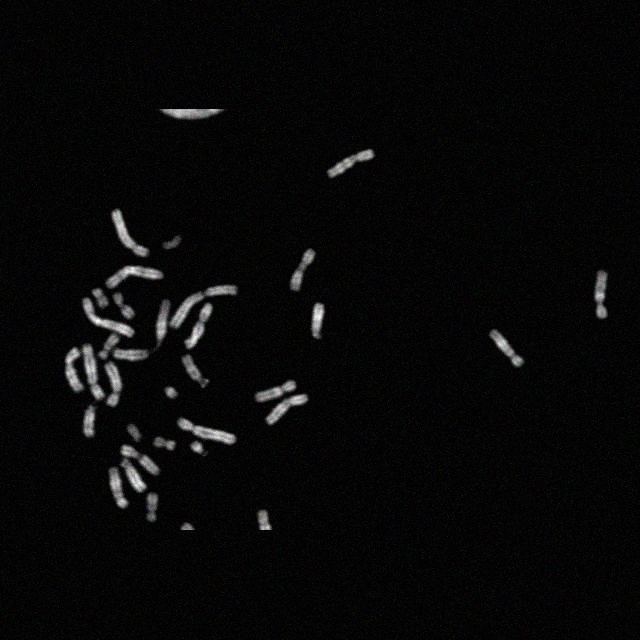chromosome: (170, 286, 238, 328), (81, 300, 135, 336), (112, 208, 148, 256), (178, 418, 237, 444), (329, 148, 373, 178), (490, 329, 522, 367), (108, 266, 162, 288), (83, 345, 105, 399), (185, 304, 212, 348), (266, 396, 308, 424), (121, 444, 159, 474), (292, 248, 314, 290), (183, 354, 209, 388), (256, 380, 296, 402), (64, 348, 83, 392), (154, 299, 172, 345), (122, 460, 146, 492), (108, 468, 127, 508), (105, 362, 122, 406), (594, 270, 608, 318), (98, 334, 120, 358), (114, 292, 134, 318), (312, 303, 324, 339), (114, 349, 148, 361), (84, 406, 96, 436), (92, 288, 108, 308), (147, 494, 158, 522), (152, 438, 176, 450), (164, 236, 183, 250), (258, 509, 270, 529), (129, 425, 143, 441), (192, 442, 204, 456), (164, 387, 178, 398)
